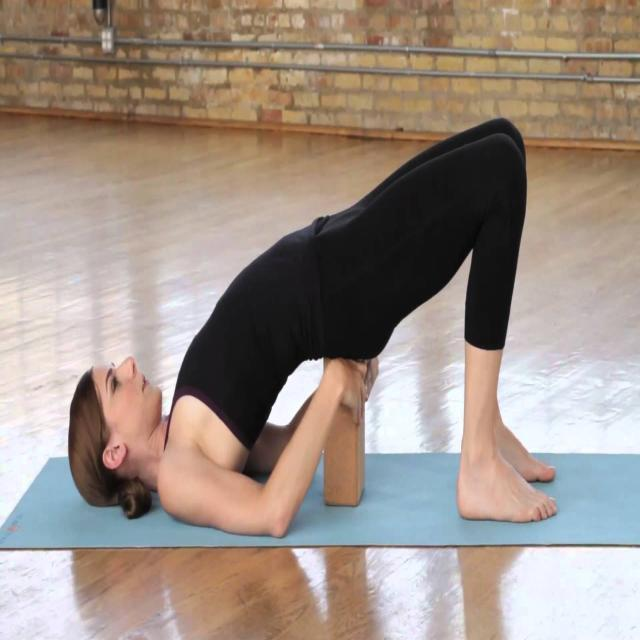yoga-pose bridge: (63, 120, 564, 520)
